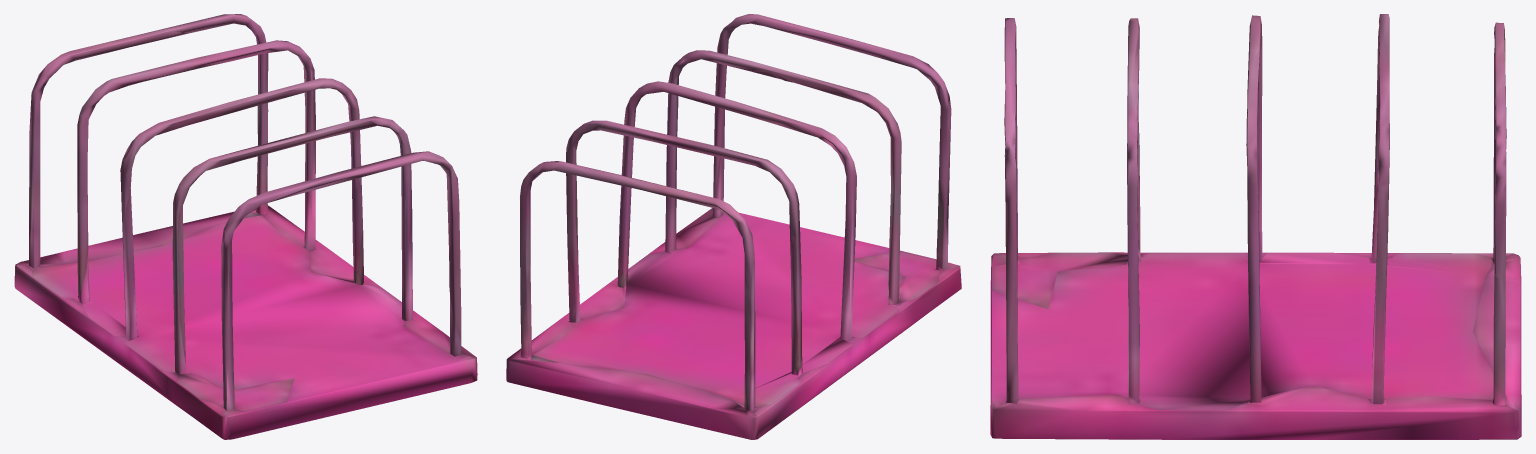
File: Poppin_File_Sorter_Pink-medium.glb
The picture shows the model from 3 angles, left to right: view 1: azimuth 30°, elevation 25°; view 2: azimuth 150°, elevation 25°; view 3: azimuth 270°, elevation 25°; orthographic projection. The views are drawn at different scales.
Visible parts, largest first — view 1: Poppin_File_Sorter_Pink; view 2: Poppin_File_Sorter_Pink; view 3: Poppin_File_Sorter_Pink.
Boxes of the visible parts, x1=… form: Poppin_File_Sorter_Pink: x1=14, y1=14, x2=477, y2=439; Poppin_File_Sorter_Pink: x1=506, y1=14, x2=961, y2=439; Poppin_File_Sorter_Pink: x1=990, y1=14, x2=1521, y2=439.
Size of the model in its own units: 0.1737 by 0.1567 by 0.2498.
Materials: 1 (1 with a texture image).
